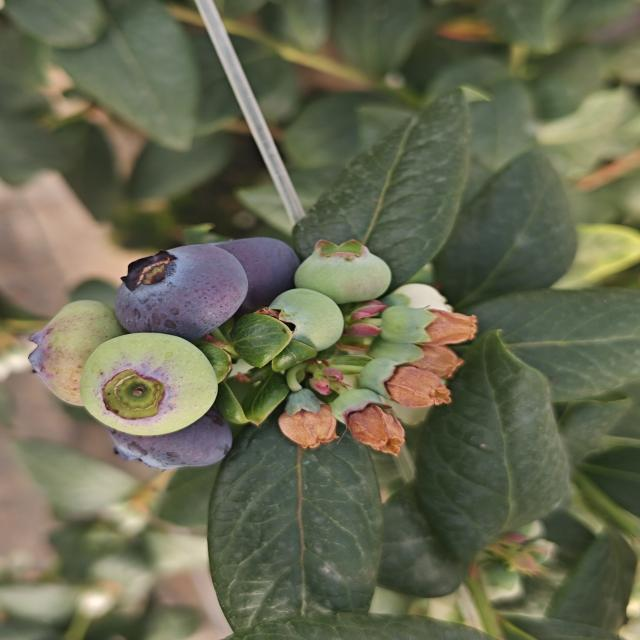ripe: (112, 242, 250, 342), (106, 408, 236, 472), (210, 231, 302, 313)
